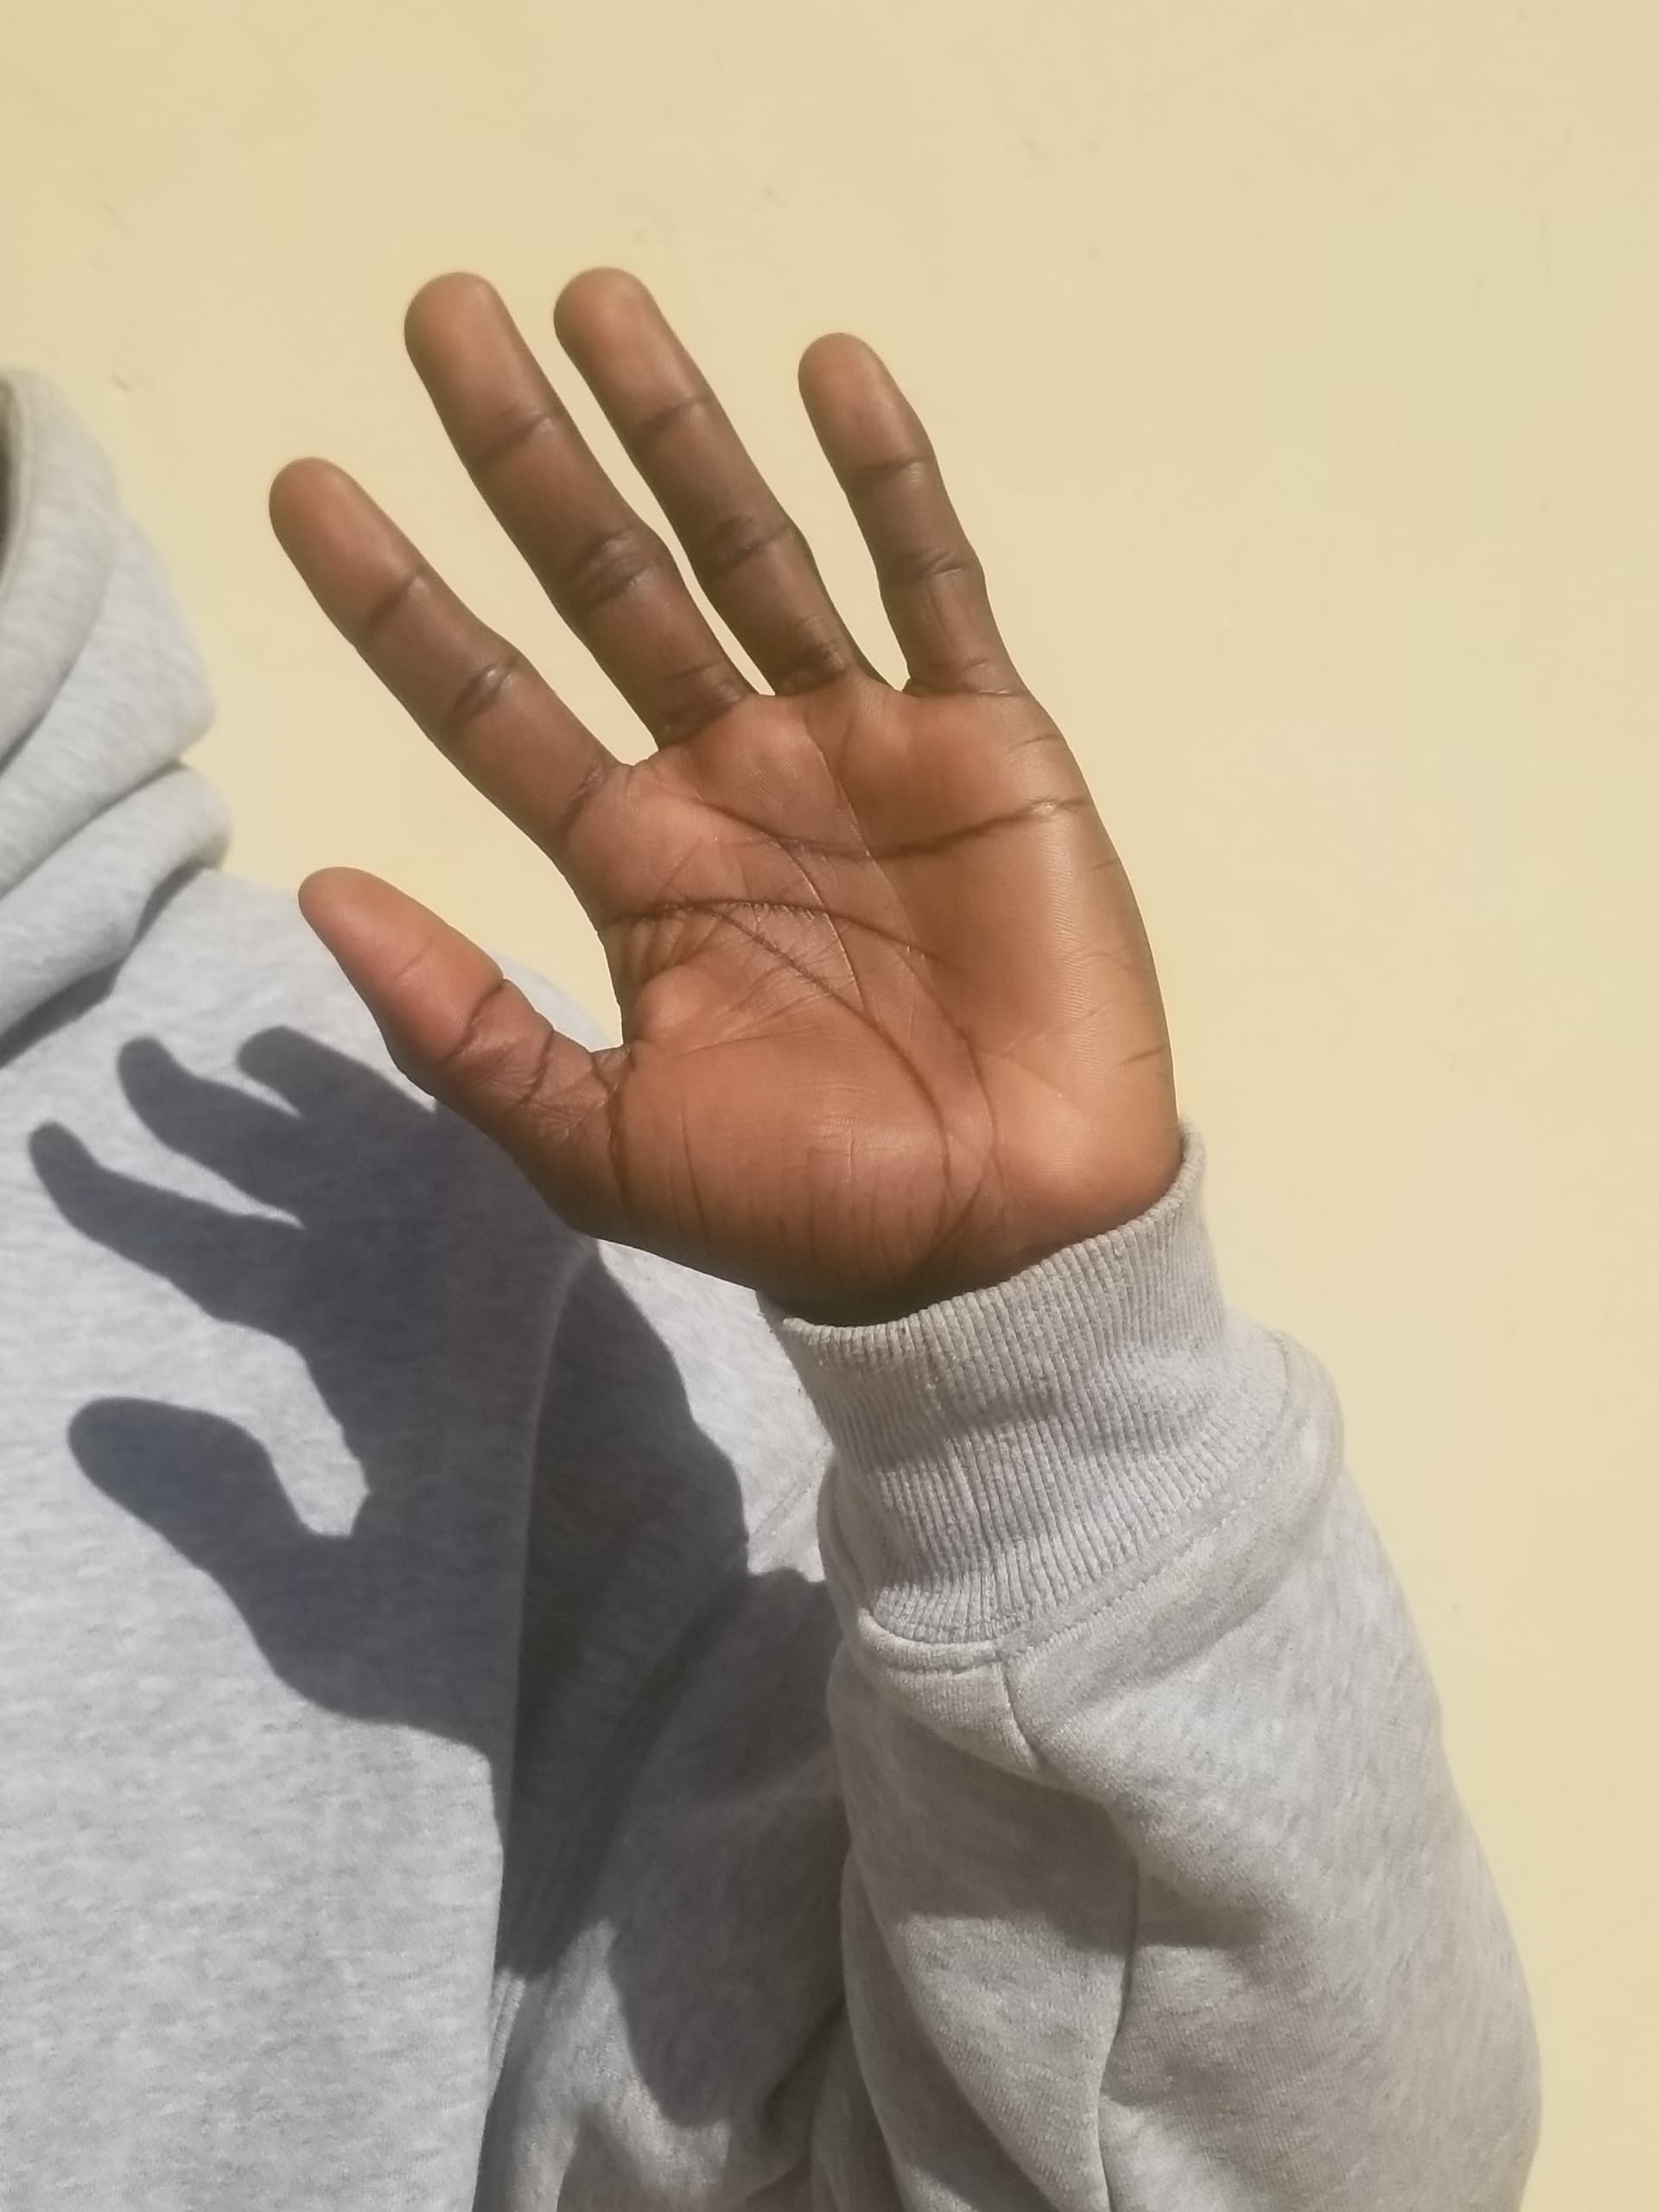hello: (183, 195, 1347, 1353)
